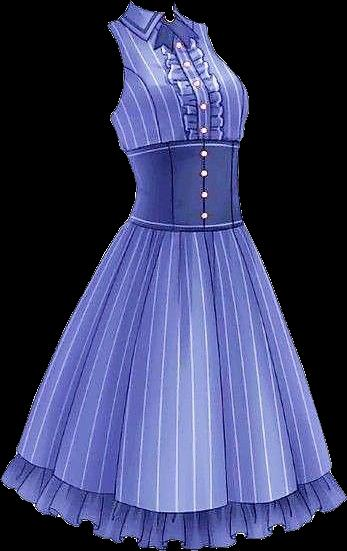Bodice: (107, 1, 248, 231)
Hemline: (0, 475, 346, 550)
Neckline: (122, 135, 238, 156), (125, 0, 179, 26)
Skirt: (1, 221, 345, 550)
Waistline: (12, 451, 335, 516), (125, 217, 246, 236)
